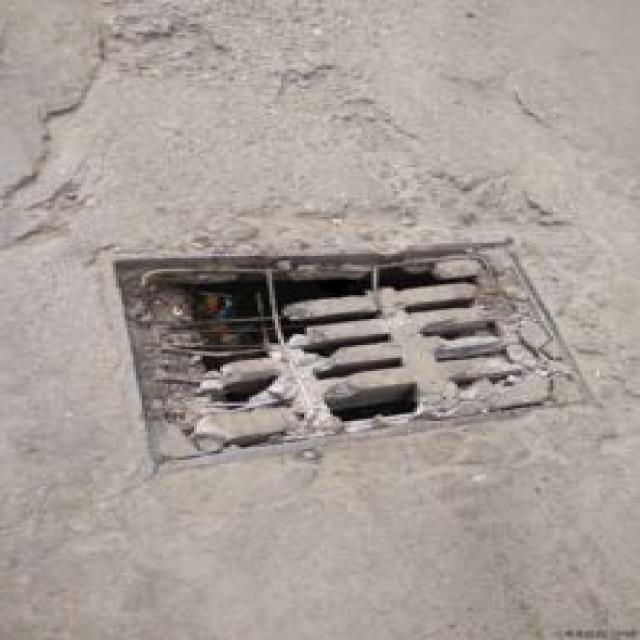manhole: (110, 240, 593, 477)
